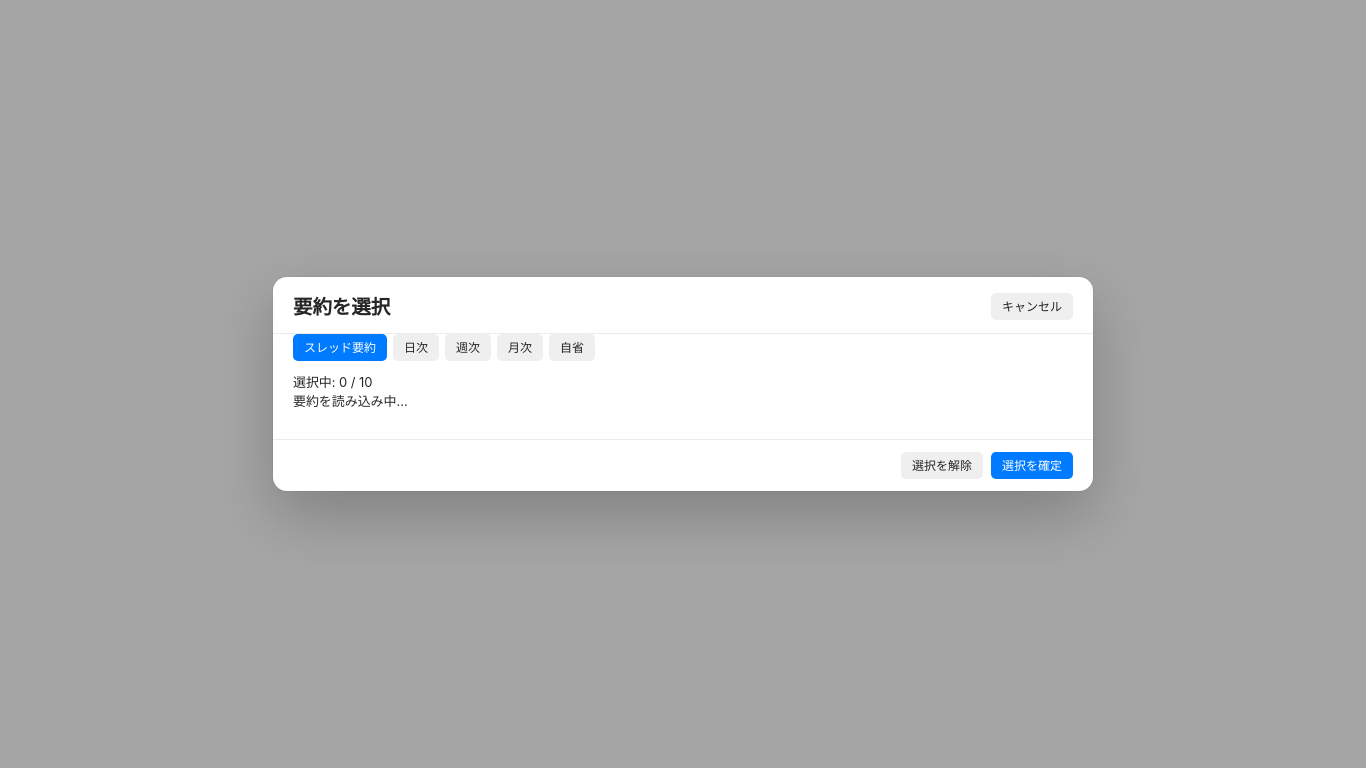
Test: SummarySelectionModal › drops a stale reflection load-more result after switching back to a summary tab
This screenshot has width=1366, height=768.
Click the tab "自省".
click(572, 348)  # box [549, 334, 595, 361]
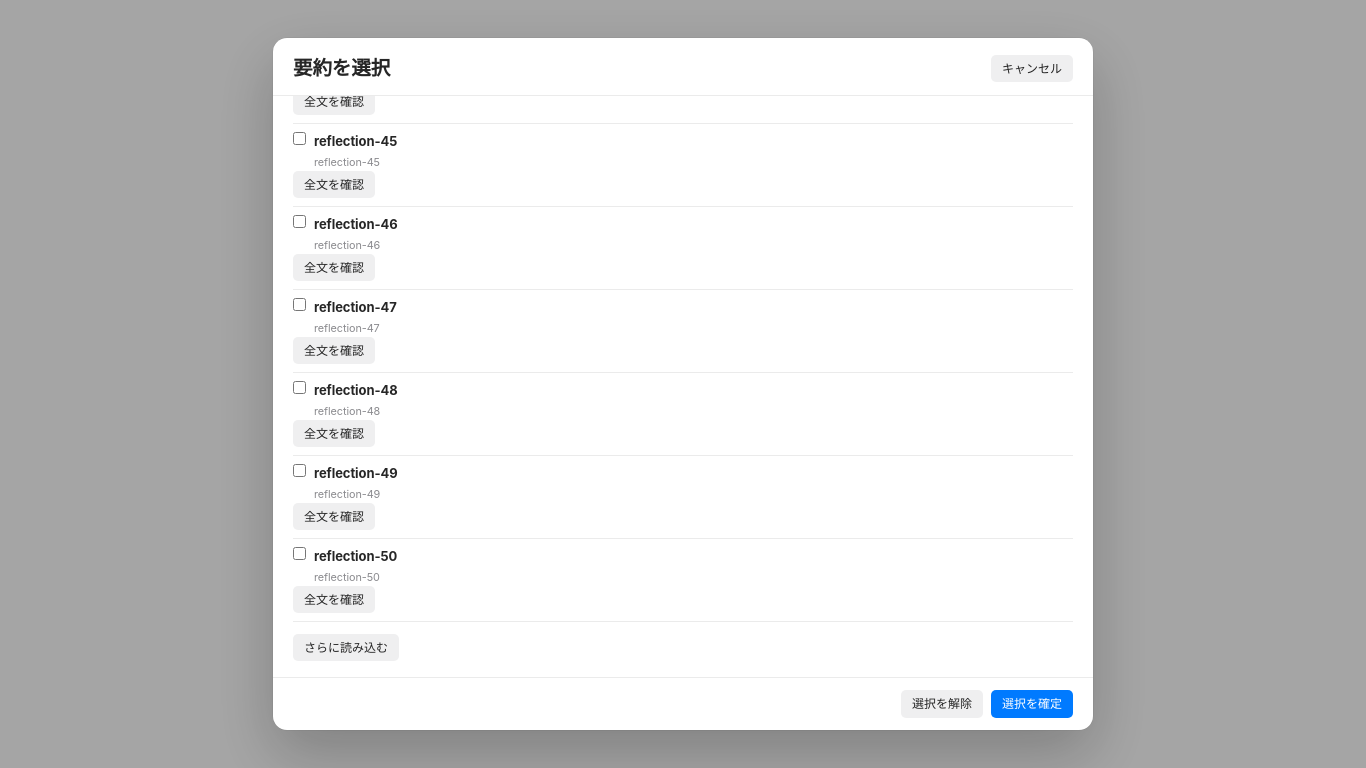
Click the button "さらに読み込む".
click(346, 648)  # box [293, 634, 399, 661]
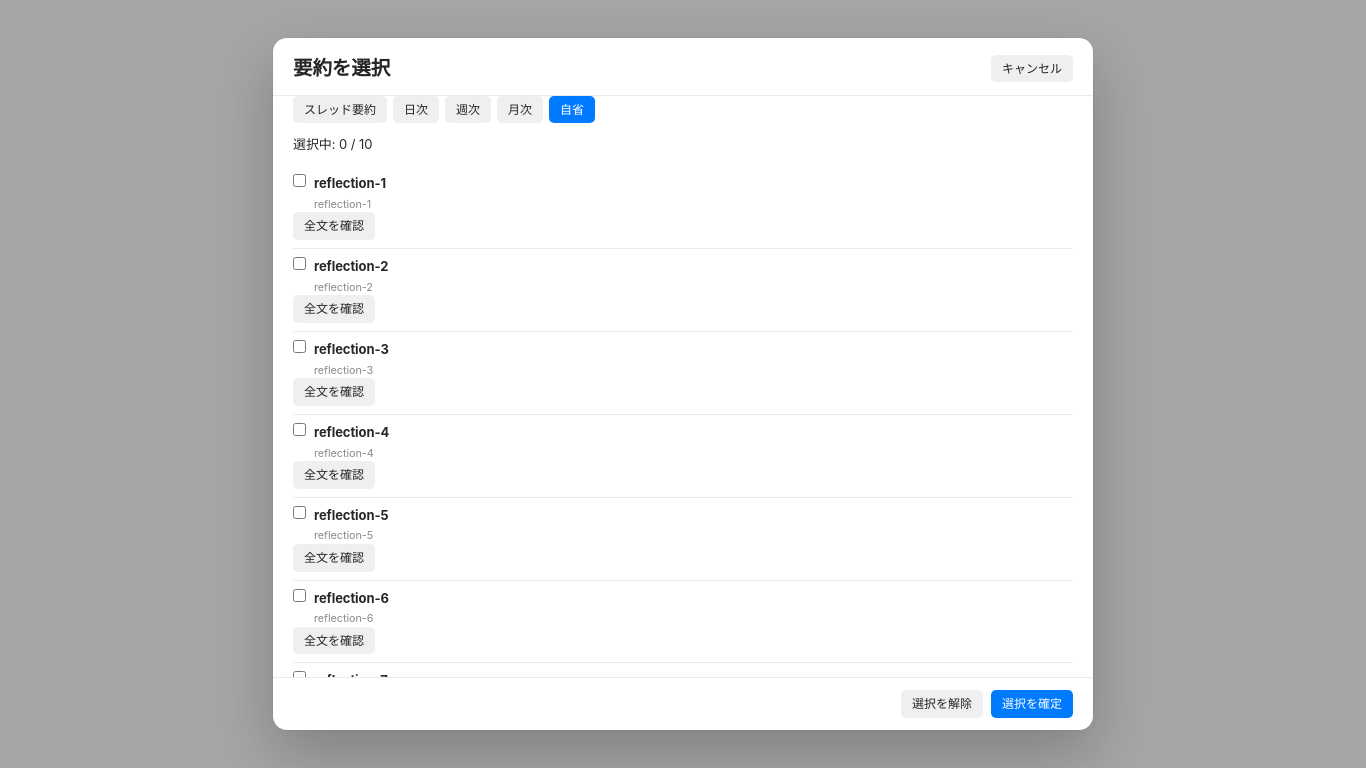
Click the tab "スレッド要約".
click(340, 109)  # box [293, 96, 387, 123]
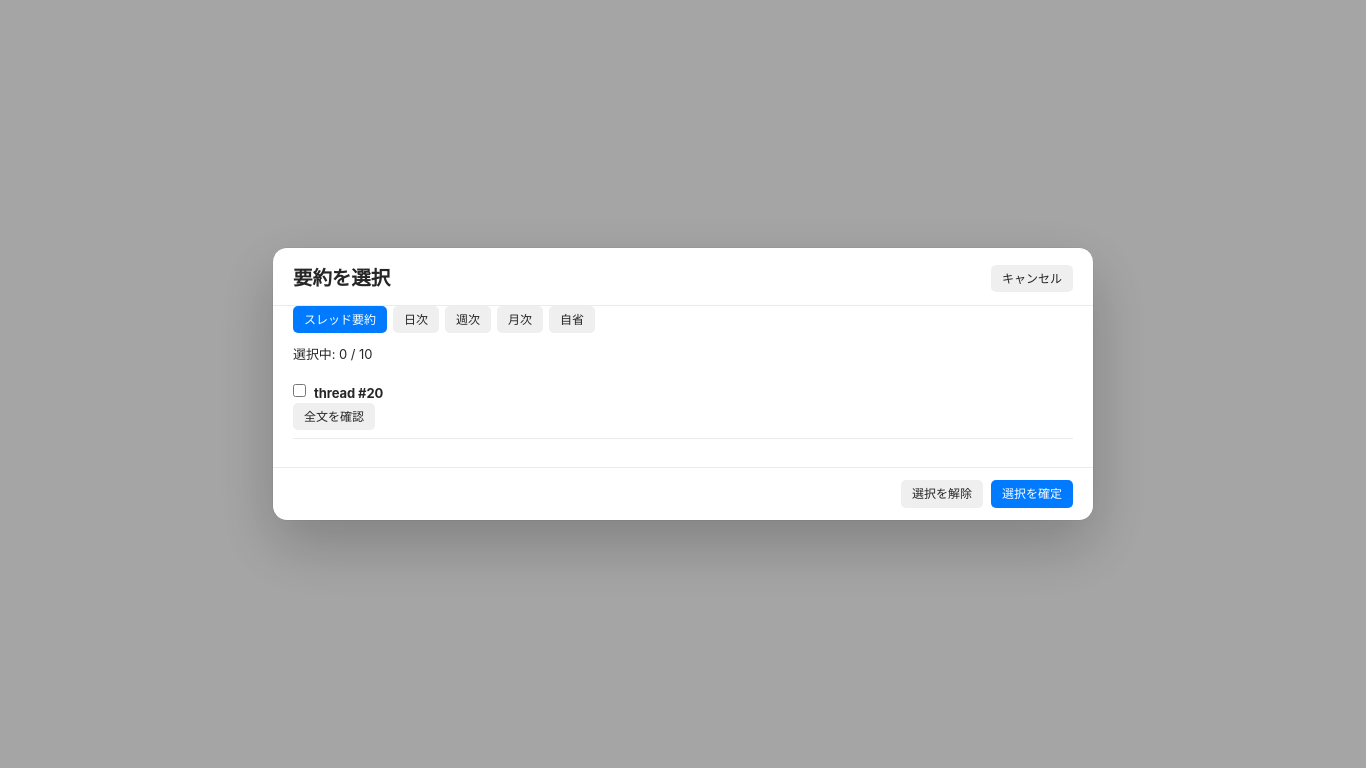
Result: the text "thread #20" is shown at [314, 384, 383, 403]
